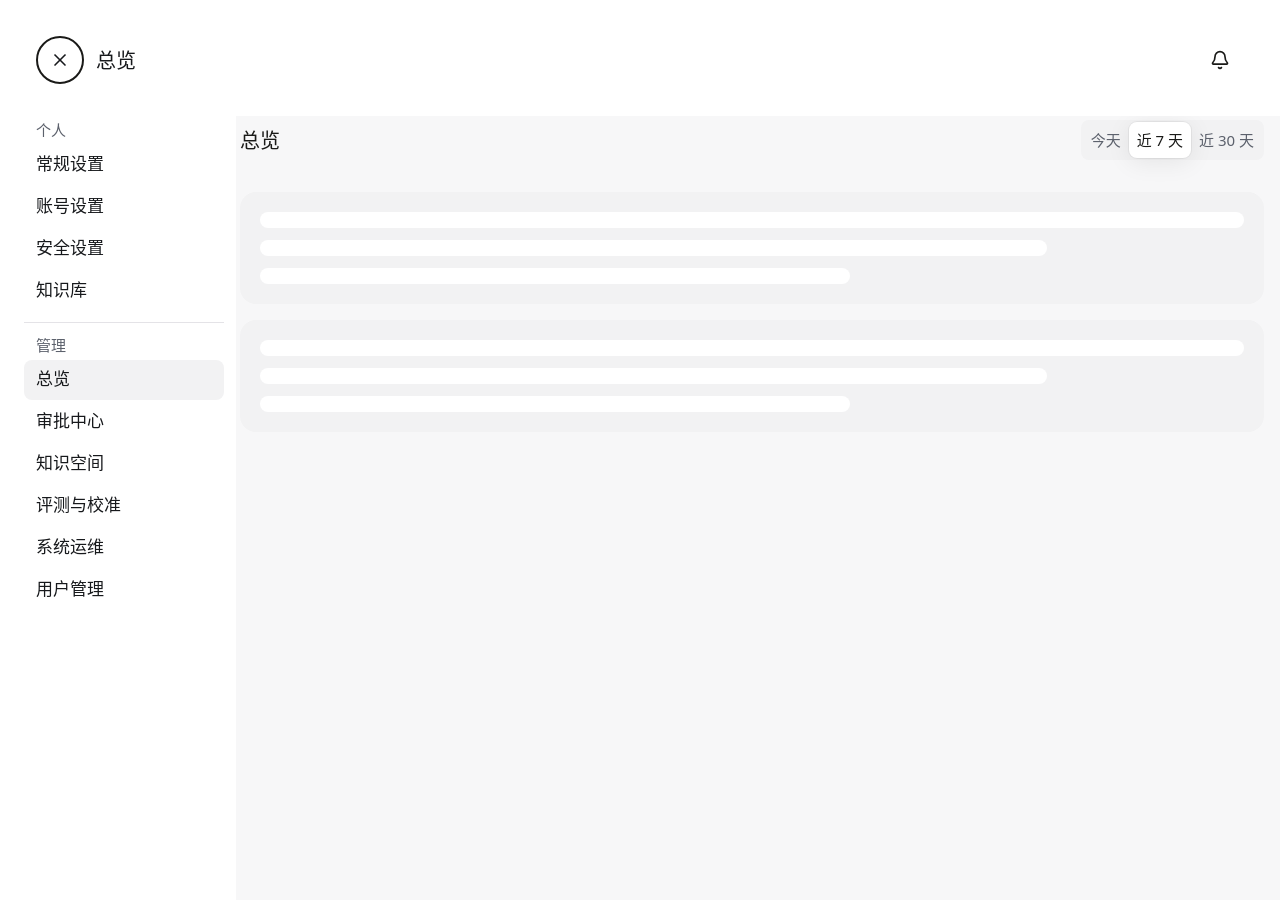
Scenario: 左栏选中态一致性：管理段快速连续切换（A2） › 六模块连续切换（总览数据挂起、内容尚在加载时打断）：每步 高亮==页头==URL
Click the button "审批中心": (124, 422) [24,402,224,442]
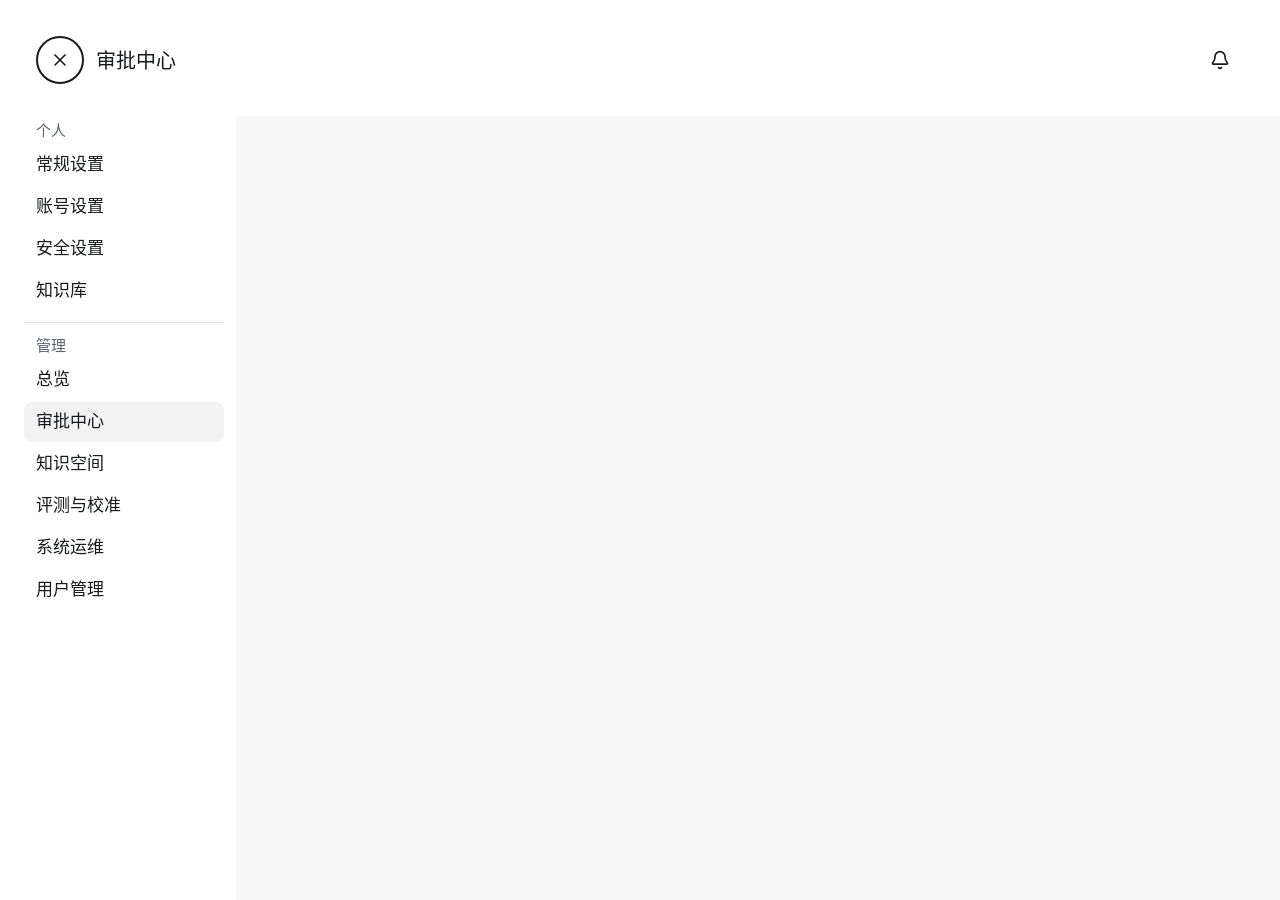
expect the heading "审批中心" is shown: met, box [96,46,176,74]
expect the heading reads "审批中心": met, box [96,46,176,74]
Click the button "知识空间": (124, 464) [24,444,224,484]
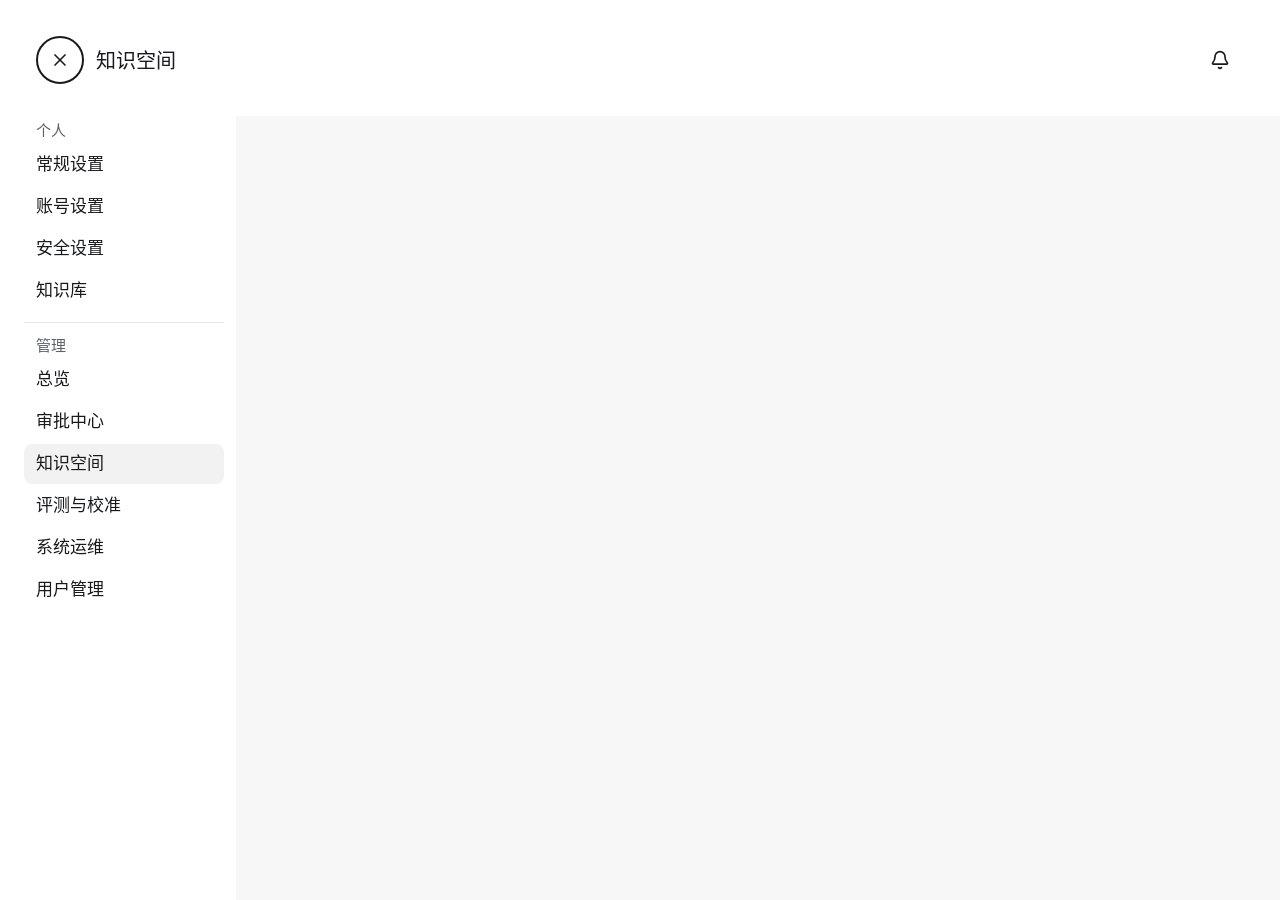
expect the heading reads "知识空间": met, box [96,46,176,74]
Click the button "评测与校准": (124, 506) [24,486,224,526]
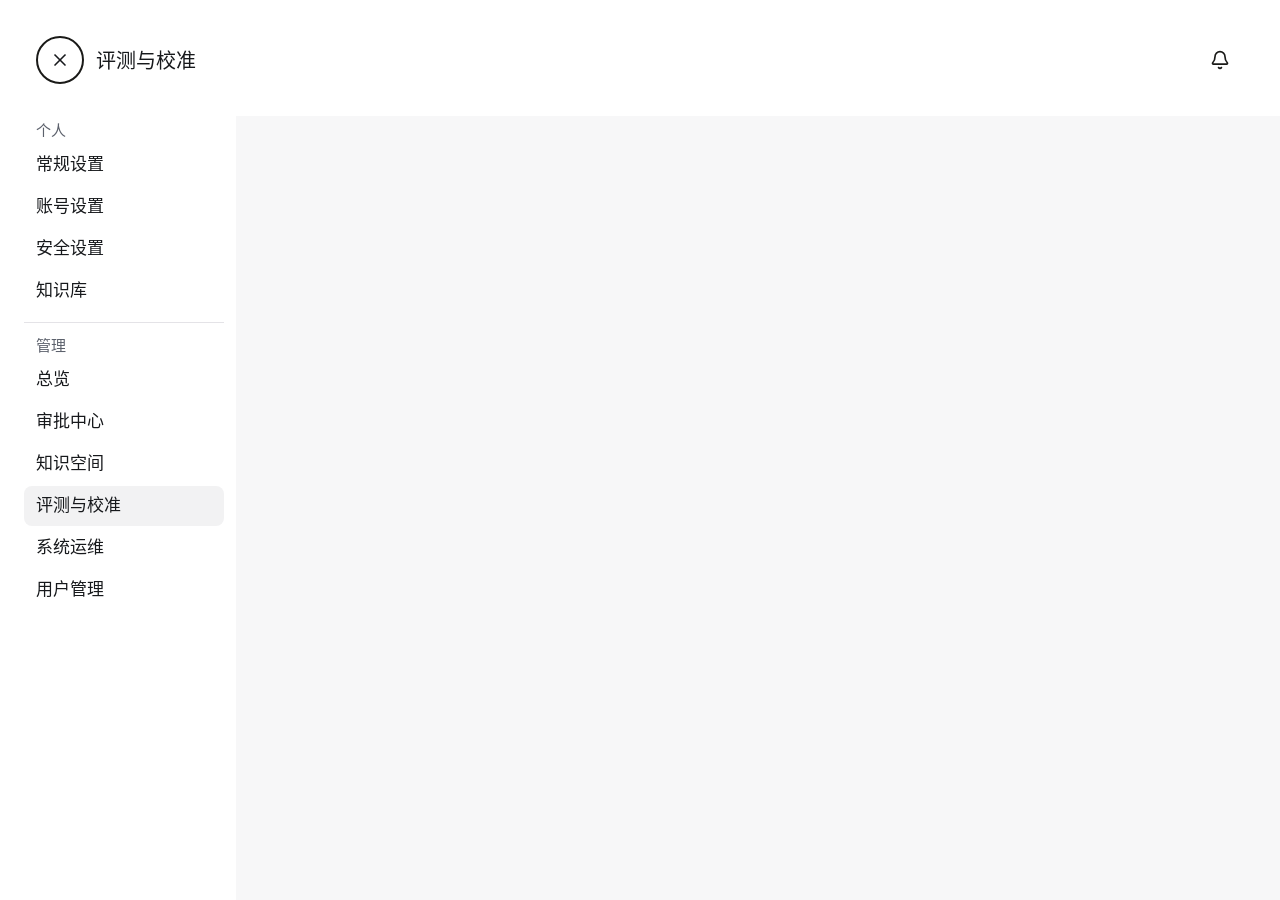
expect the heading reads "评测与校准": met, box [96,46,196,74]
Click the button "系统运维": (124, 548) [24,528,224,568]
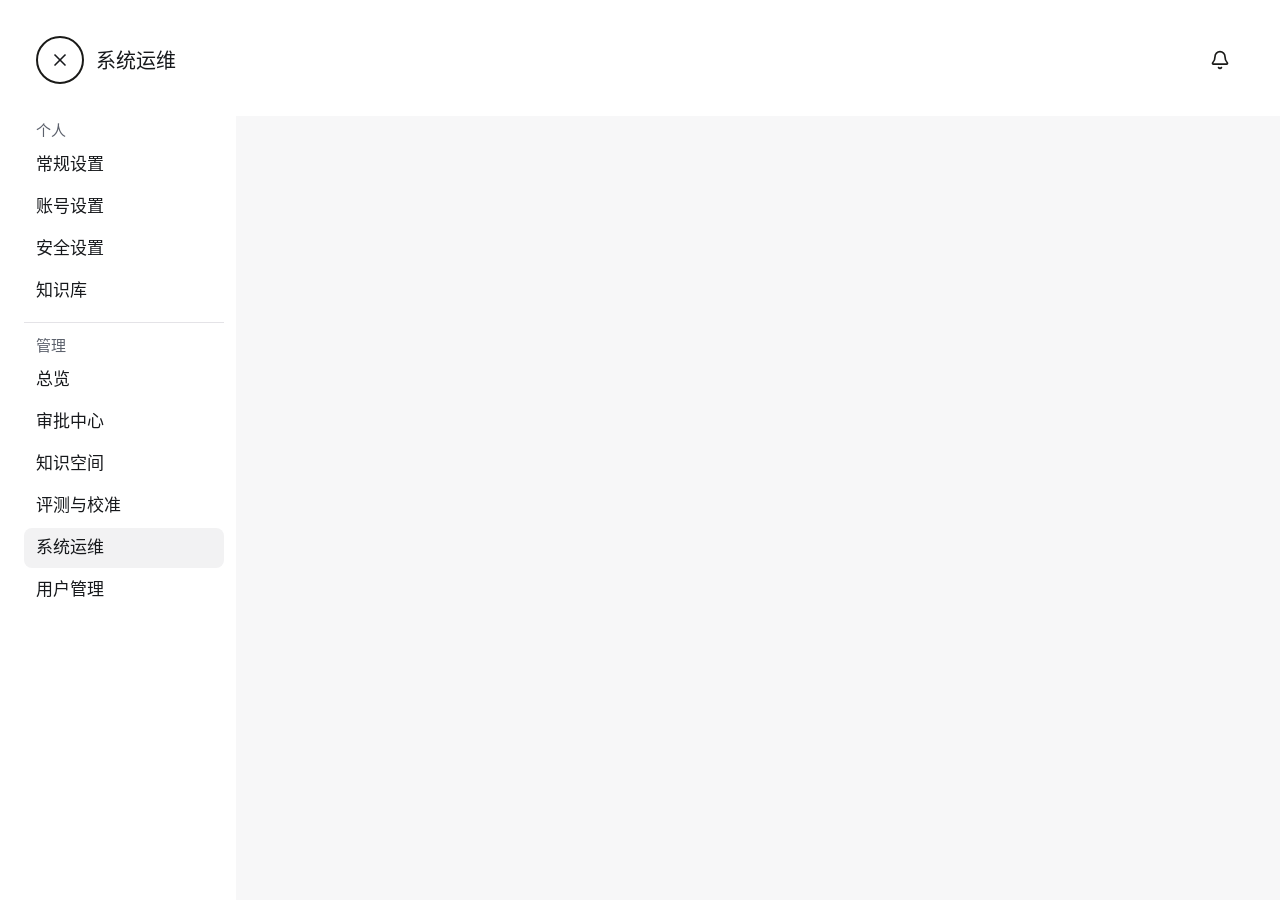
expect the heading reads "系统运维": met, box [96,46,176,74]
Click the button "用户管理": (124, 590) [24,570,224,610]
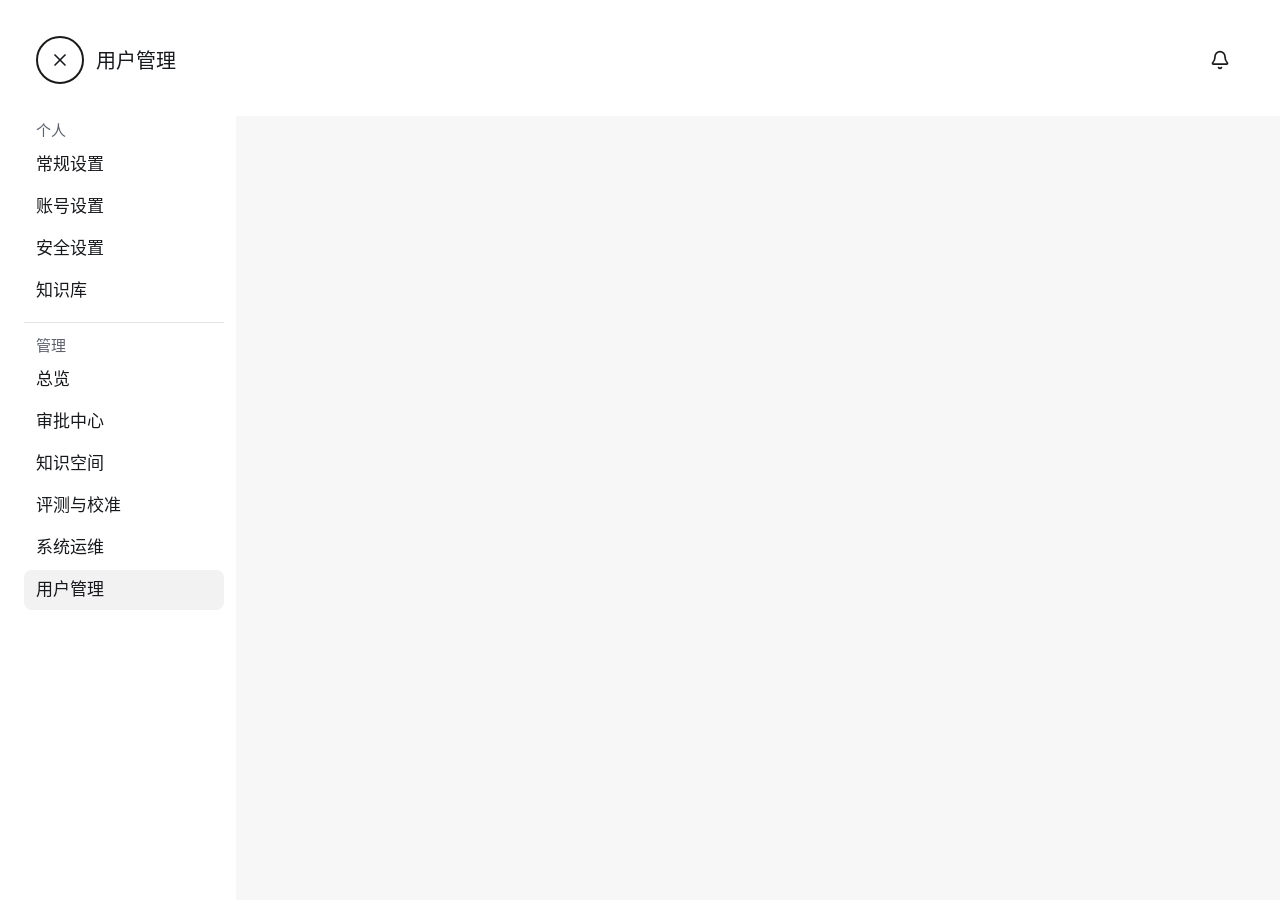
expect the heading reads "用户管理": met, box [96,46,176,74]
Click the button "总览": (124, 380) [24,360,224,400]
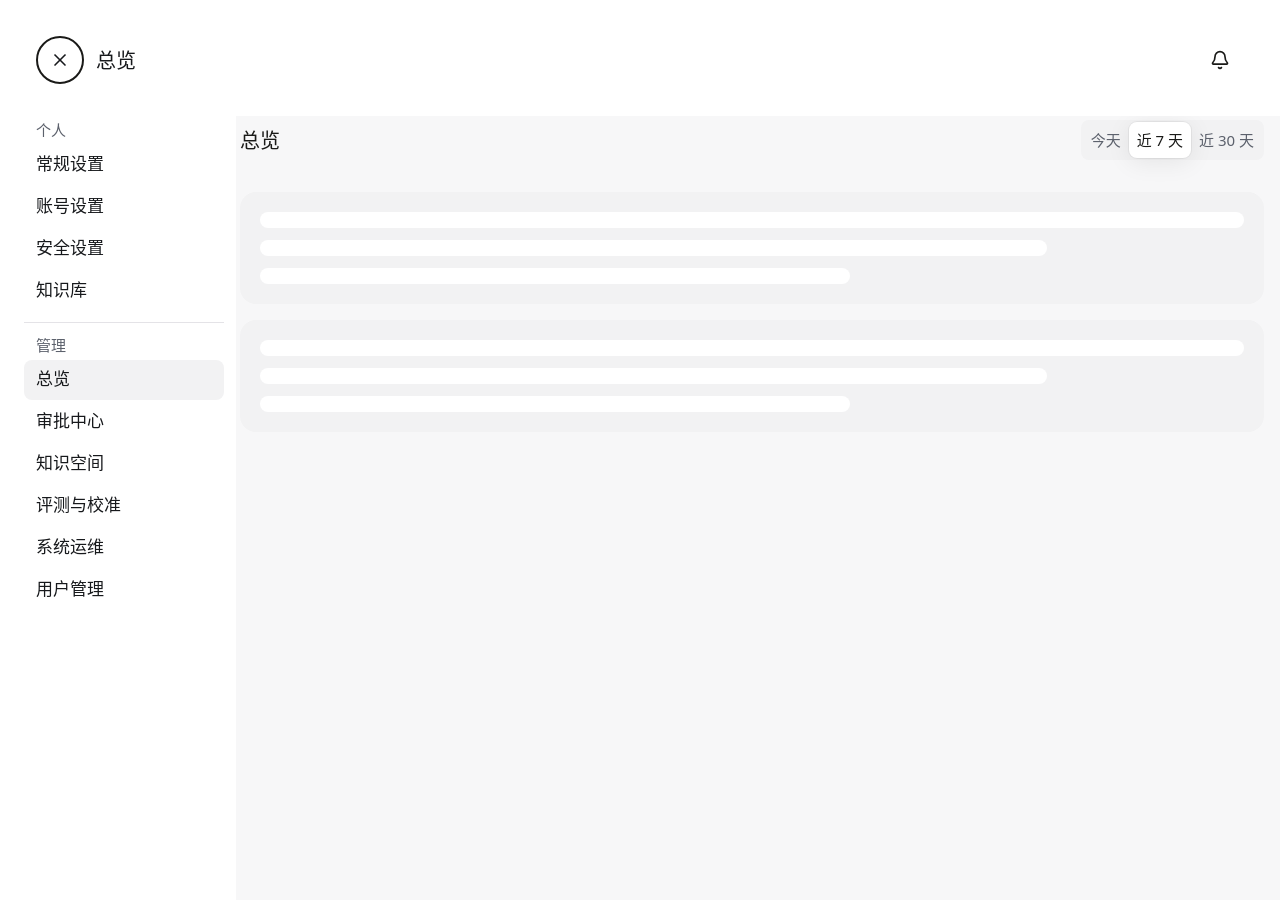
expect the 1st heading "总览" is shown: met, box [96,46,136,74]
expect the 2nd heading "总览" is shown: met, box [240,126,280,154]
